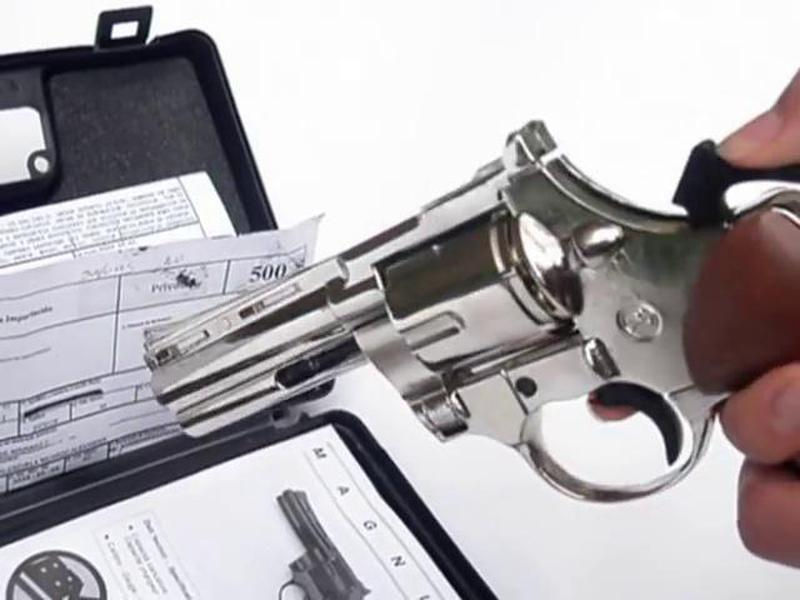Revolver: (142, 112, 800, 497)
